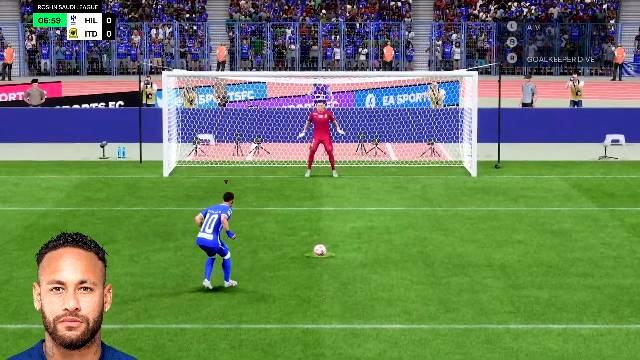bottom-left: (168, 136, 270, 180)
bottom-right: (372, 138, 471, 178)
center-down: (272, 136, 370, 180)
center-up: (272, 78, 368, 134)
circle: (306, 250, 336, 254)
football: (314, 243, 326, 252)
goalkeeper: (302, 107, 342, 181)
player: (190, 191, 246, 289)
top-left: (167, 79, 269, 133)
top-right: (371, 78, 472, 132)
